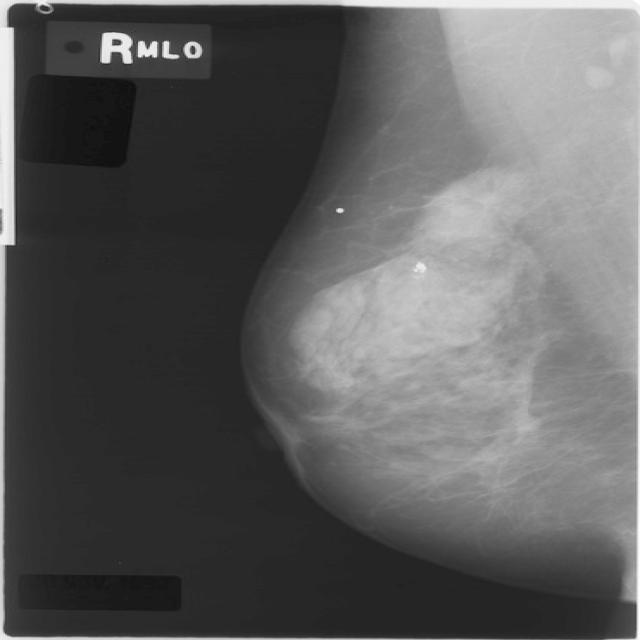tumour: (405, 166, 535, 249)
